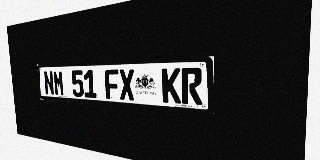1: (83, 70, 97, 98)
5: (71, 70, 84, 97)
F: (104, 69, 120, 100)
K: (162, 68, 181, 104)
M: (53, 71, 65, 96)
N: (43, 71, 54, 95)
R: (181, 68, 202, 105)
X: (119, 69, 135, 101)
